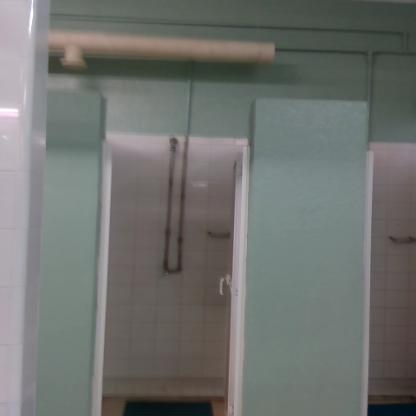open: (57, 73, 288, 416)
